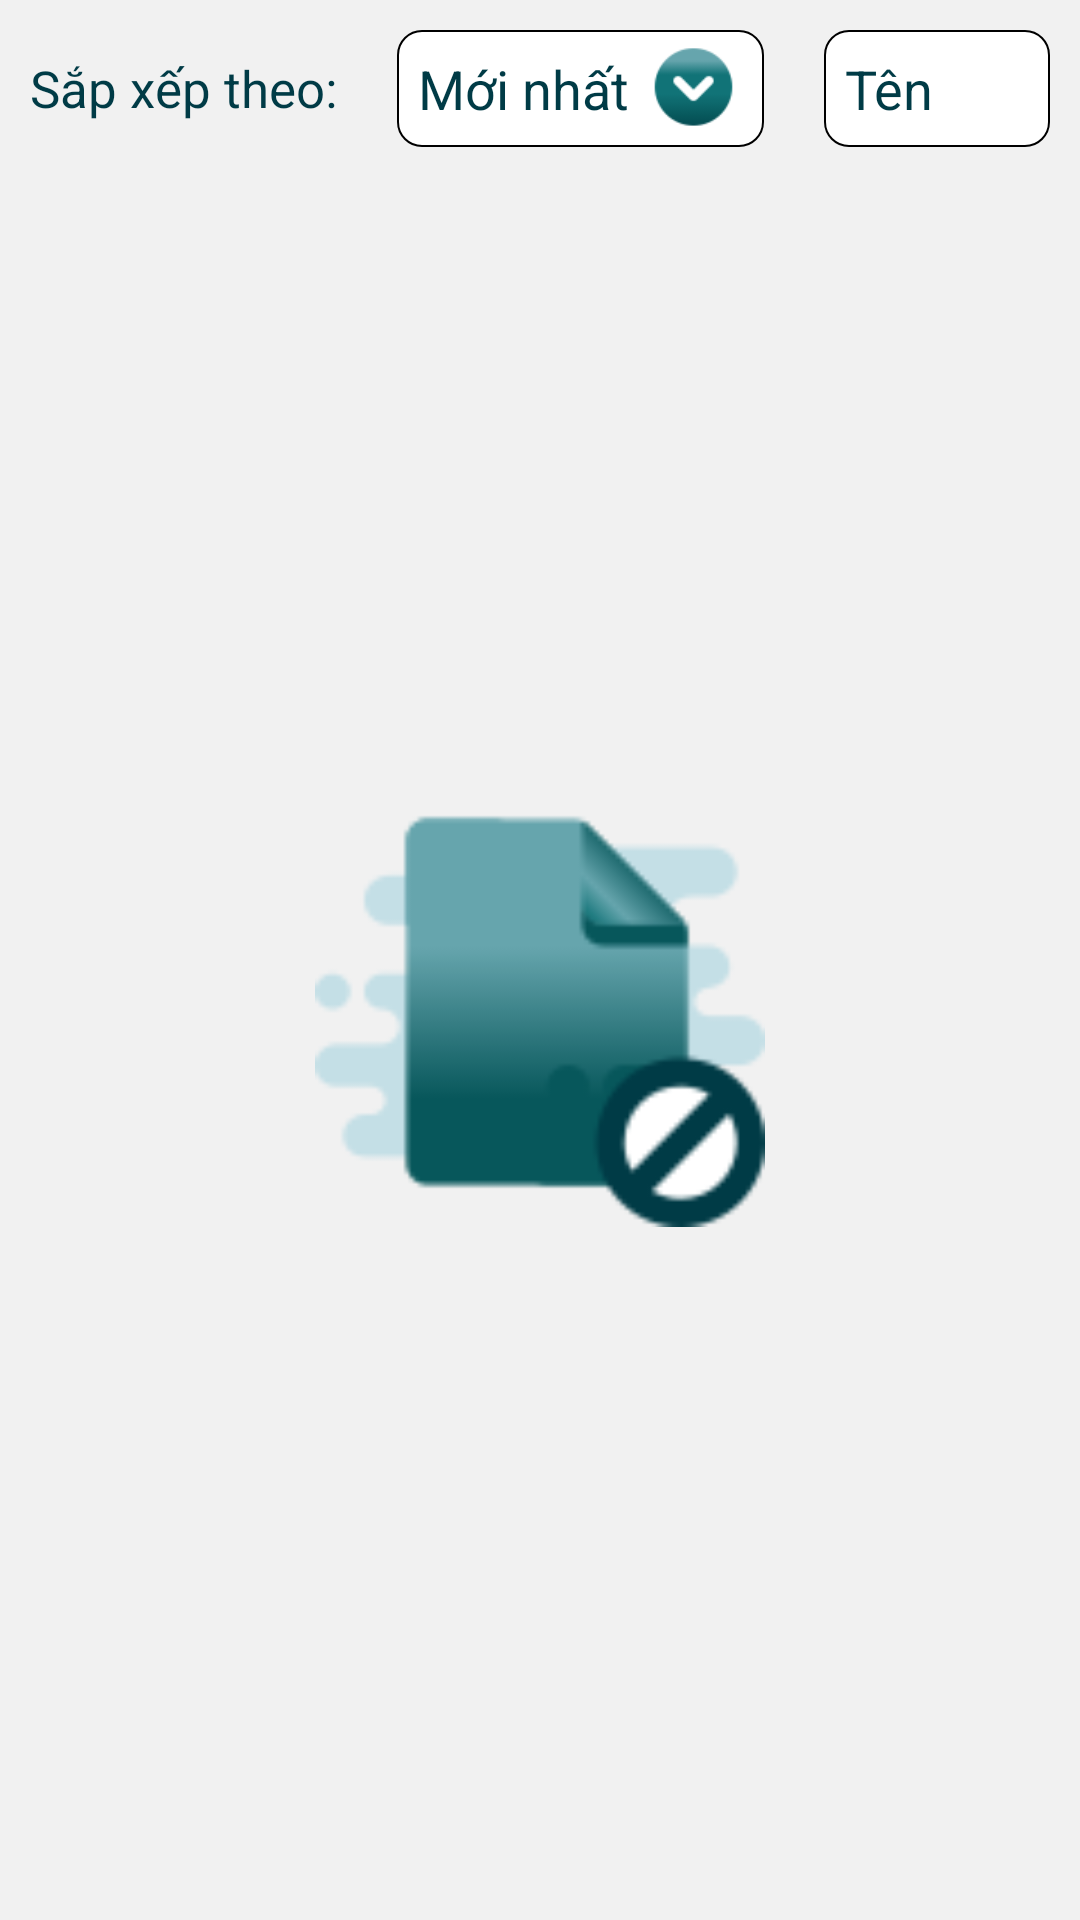

Locate icon controls on the screen. Image size 1080px×1920px, boxes as (x1, y1, x2, y2).
arrow down: (654, 48, 733, 126)
